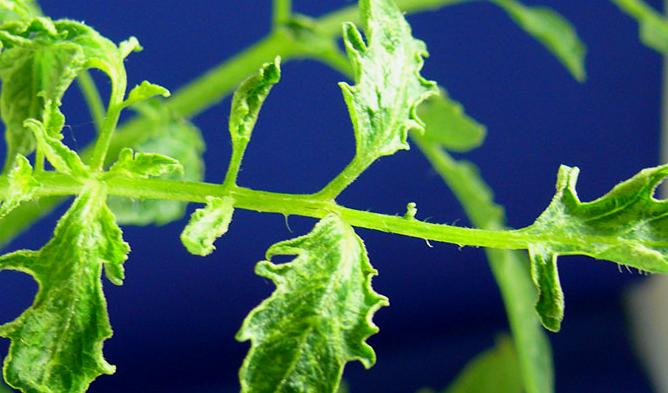Tomato leaf mosaic virus: (198, 213, 406, 393), (0, 189, 165, 393), (499, 166, 668, 323), (327, 0, 448, 168)
